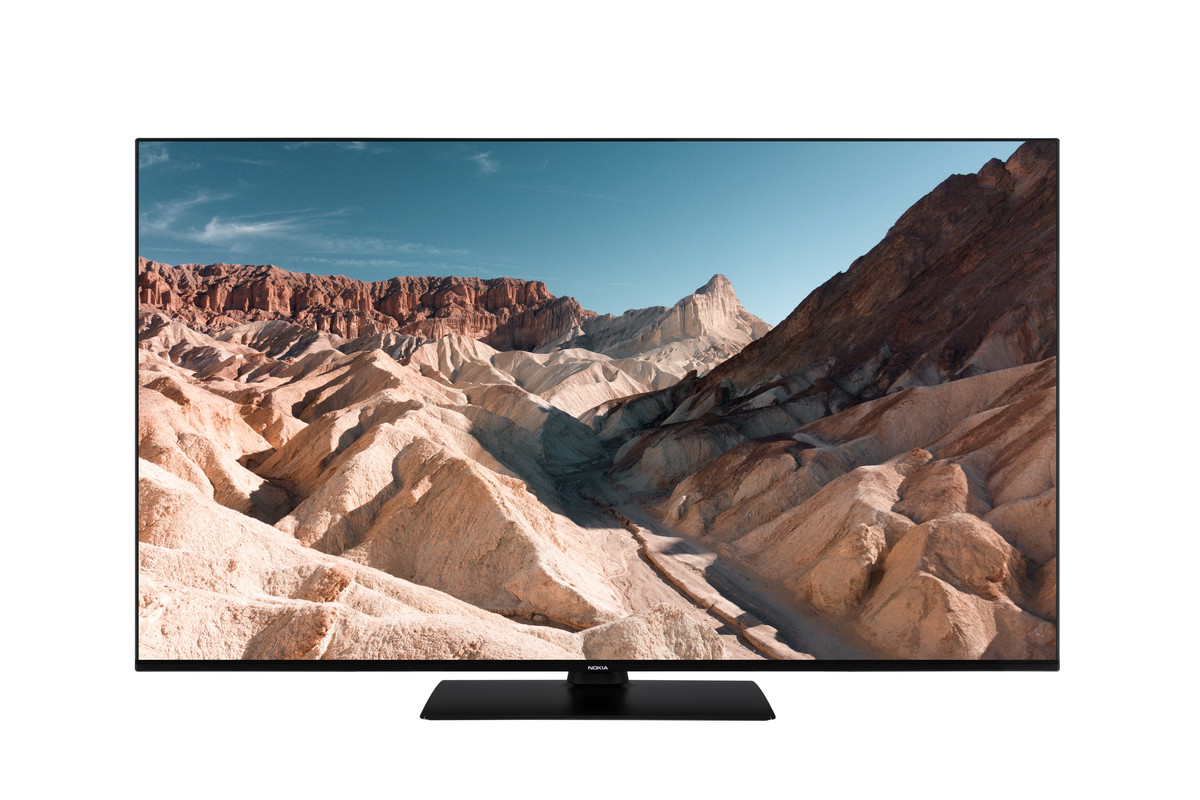tv: (113, 123, 1086, 750)
